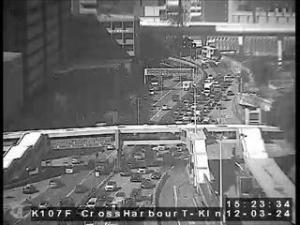bus: (150, 75, 163, 93)
truck: (94, 160, 108, 174), (182, 80, 192, 92)
vehicle: (58, 199, 72, 210), (105, 180, 117, 192), (142, 195, 152, 206), (87, 197, 97, 207), (132, 189, 140, 201), (38, 200, 50, 208), (49, 180, 58, 189), (151, 172, 161, 180), (22, 185, 32, 193), (76, 182, 84, 192), (72, 156, 82, 164), (142, 179, 150, 187), (132, 174, 140, 182), (120, 170, 130, 176), (138, 168, 148, 174), (66, 168, 72, 174), (173, 95, 179, 101), (186, 108, 192, 114), (183, 115, 190, 120), (227, 90, 231, 96), (149, 90, 153, 95), (163, 105, 167, 109)
